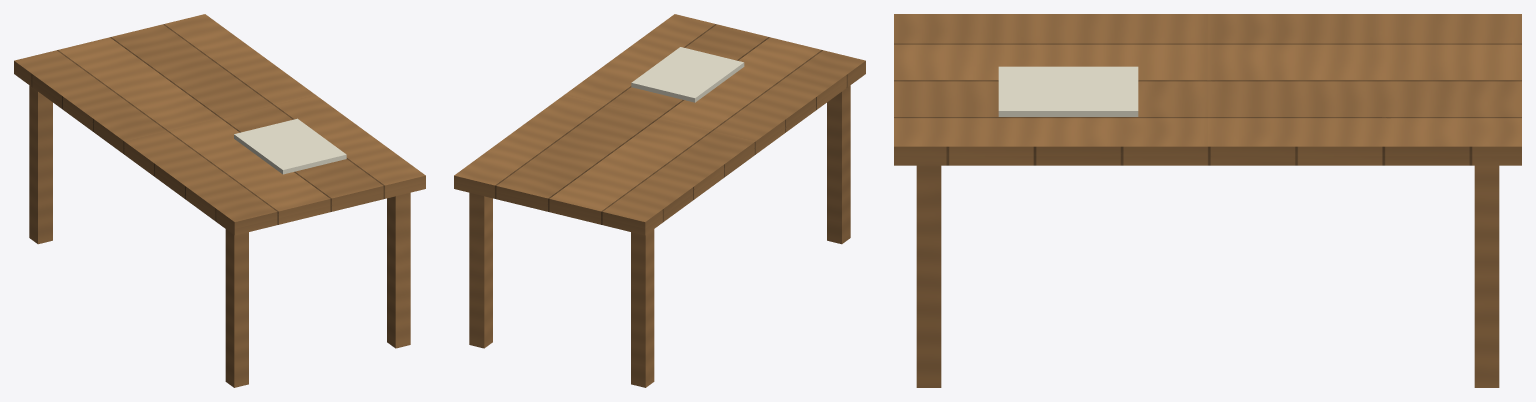
File: stol.glb
3 renders of one model, left to right at view 1: azimuth 30°, elevation 25°; view 2: azimuth 150°, elevation 25°; view 3: azimuth 270°, elevation 25°, orthographic. The views are drawn at different scales.
Visible parts, largest first — view 1: stol; view 2: stol; view 3: stol.
Boxes of the visible parts, x1=… form: stol: x1=14, y1=14, x2=425, y2=387; stol: x1=454, y1=14, x2=865, y2=387; stol: x1=894, y1=14, x2=1521, y2=387.
Size of the model in its own units: 0.9 by 0.8 by 1.8.
Materials: 2 (1 with a texture image).
